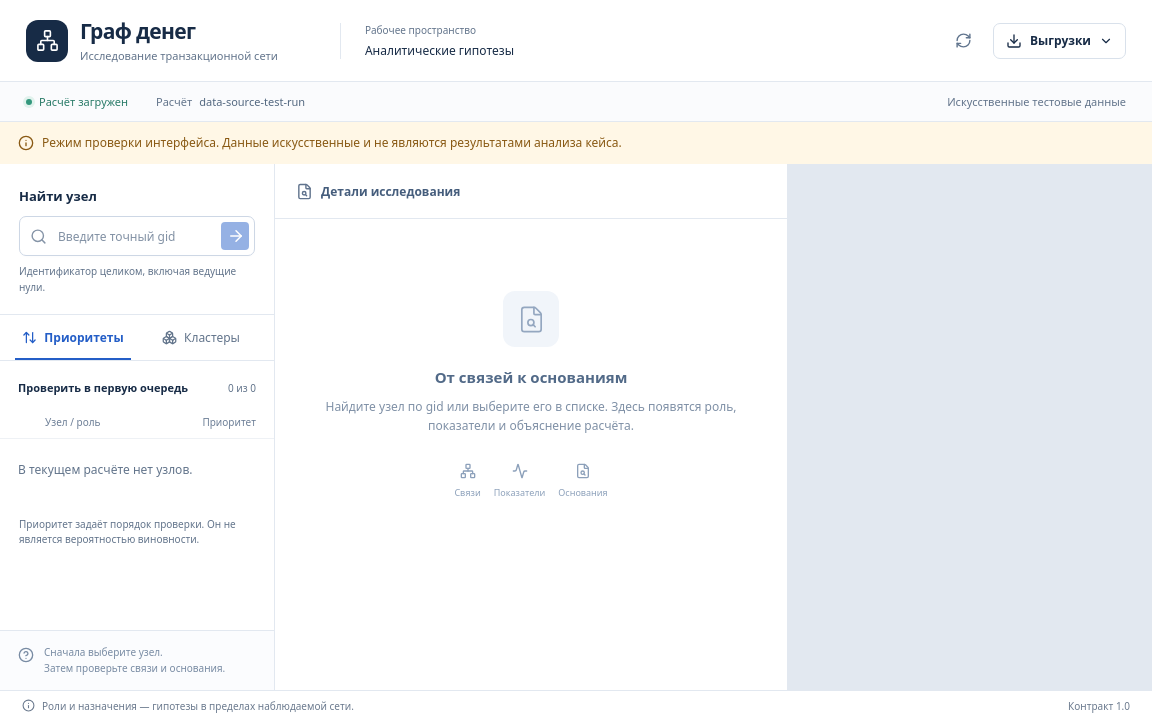
runtime data source for a reusable frontend build › refreshes the source and removes the previous fixture warning
Expected: the text "Режим проверки интерфейса. Данные искусственные и не являются результатами анализа кейса." is shown, [42, 134, 622, 151]
Click the button named "Обновить набор данных": (964, 40) [947, 24, 981, 58]
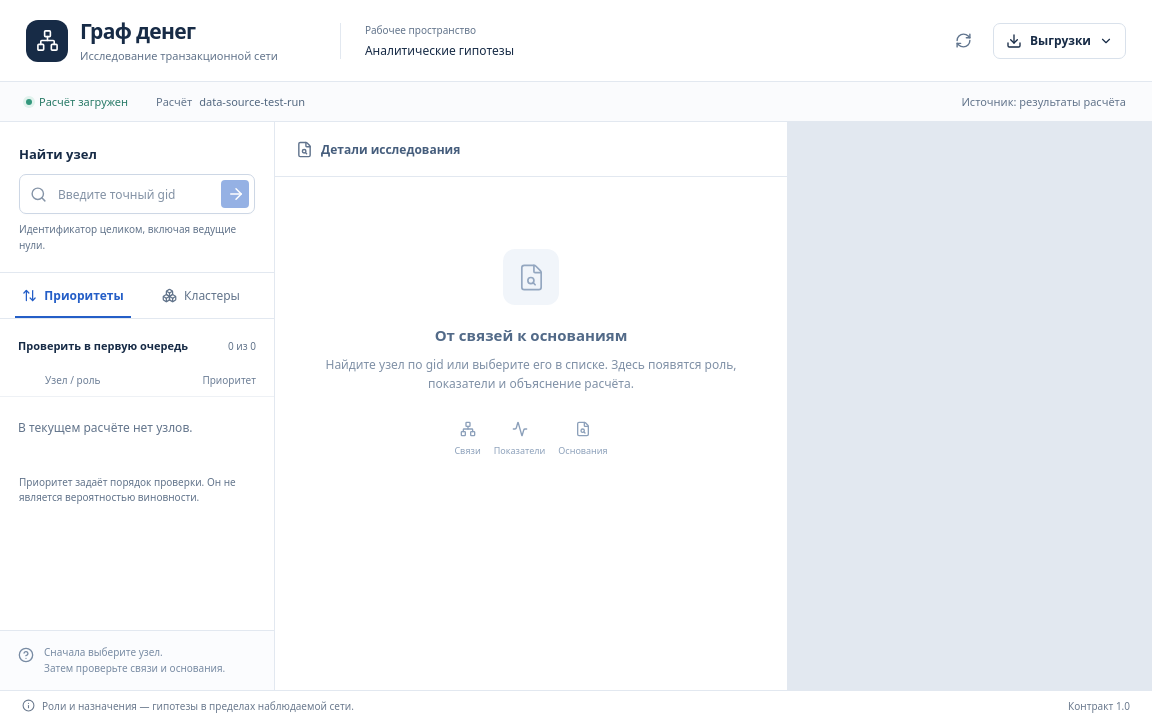
Expected: the text "Расчёт загружен" is shown, [26, 94, 128, 109]
Expected: the text "Режим проверки интерфейса. Данные искусственные и не являются результатами анализа кейса." is gone
Expected: the text "Источник: результаты расчёта" is shown, [961, 94, 1126, 109]
Click the button named "Обновить набор данных": (964, 40) [947, 24, 981, 58]
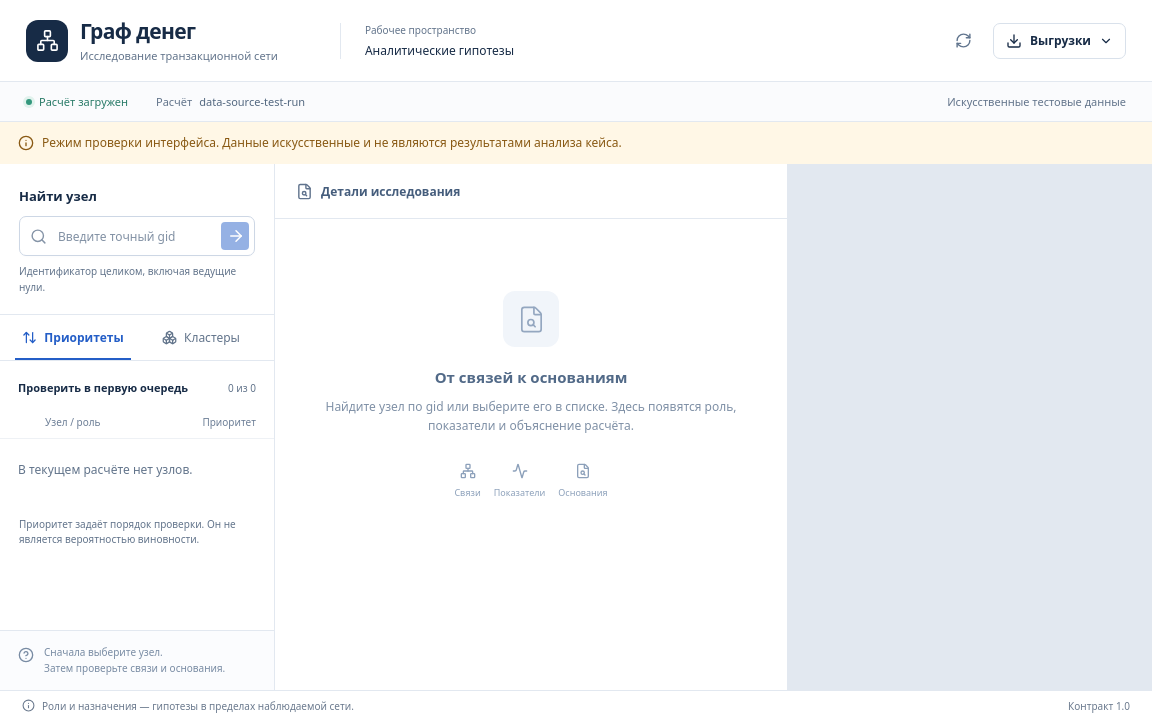
Expected: the text "Режим проверки интерфейса. Данные искусственные и не являются результатами анализа кейса." is shown, [42, 134, 622, 151]
